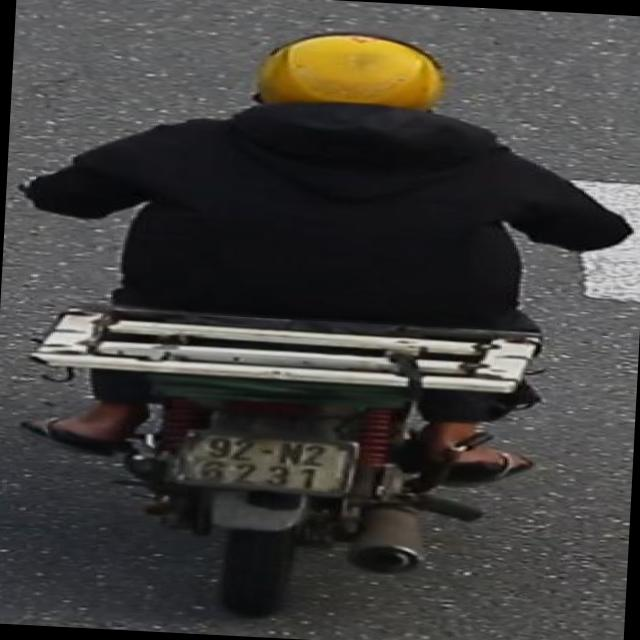LP: (168, 428, 367, 502)
helmet: (242, 26, 458, 132)
